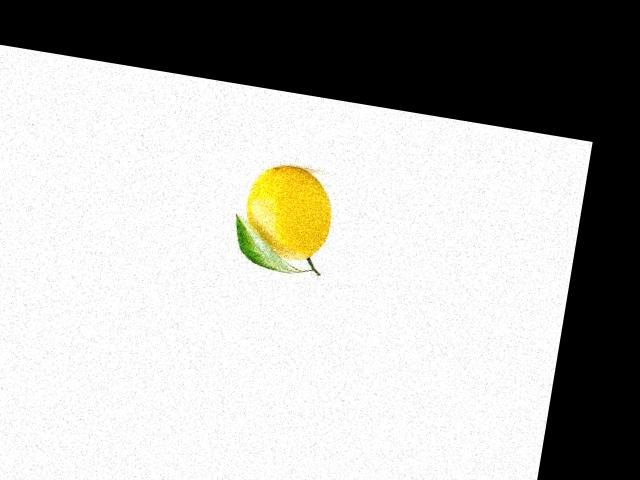lemon: (233, 152, 345, 273)
